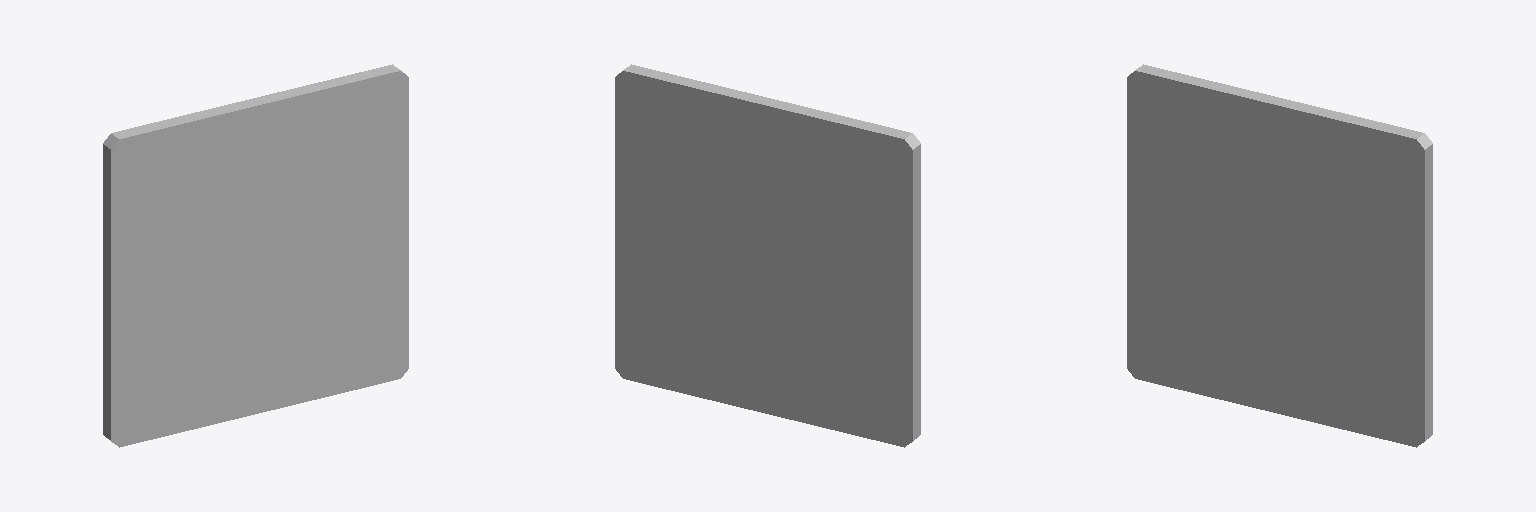
The model's file is schild zusatztafel groß.obj.
3 renders of one model, left to right at view 1: azimuth 30°, elevation 25°; view 2: azimuth 150°, elevation 25°; view 3: azimuth 330°, elevation 25°, orthographic.
Size of the model in its own units: 0.5554 by 0.5491 by 0.0275.